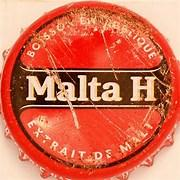metal: (2, 2, 180, 180)
